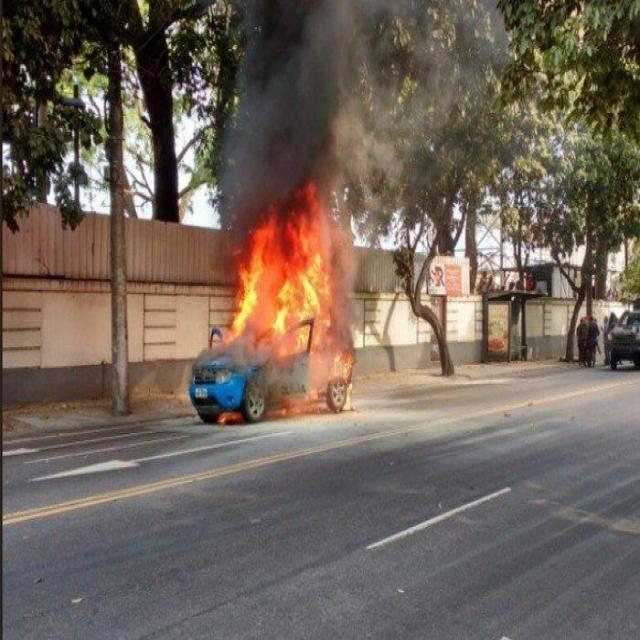Fire: (241, 246, 335, 345)
Smoke: (260, 6, 443, 143)
